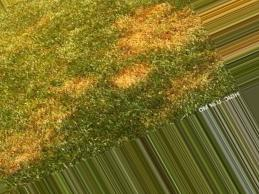patch: (121, 10, 187, 57), (1, 121, 47, 167), (60, 74, 106, 94), (116, 69, 143, 87)
